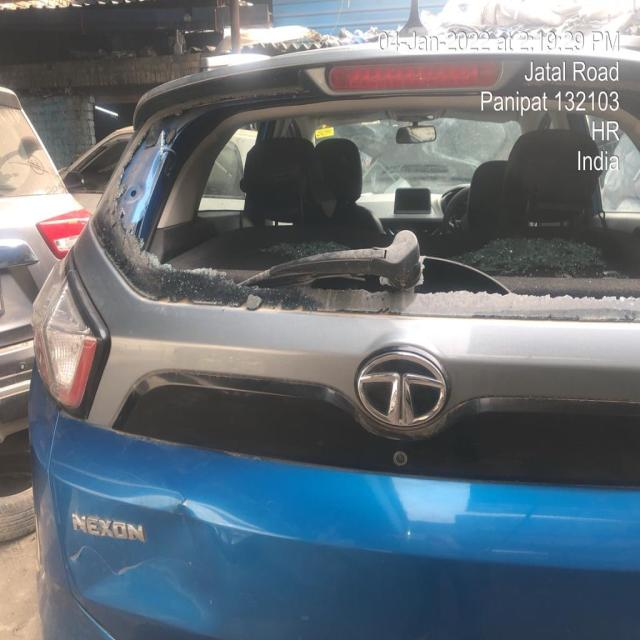damage: (97, 102, 640, 371), (69, 478, 288, 624)
